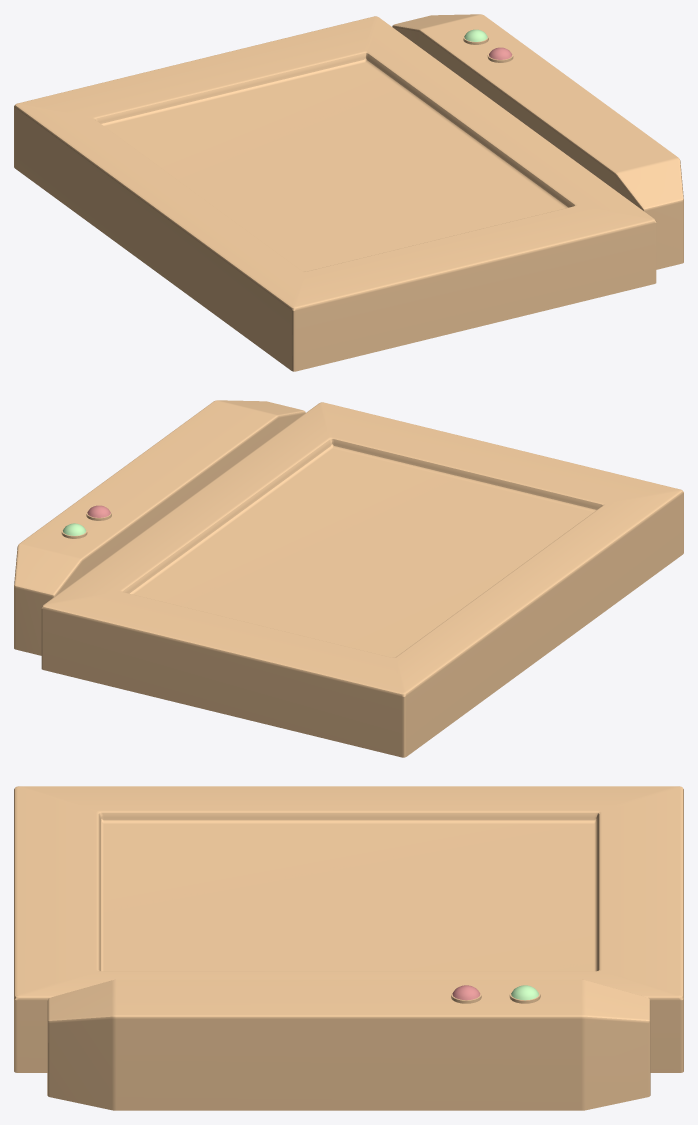
File: Hand_Scanner.fbx
3 renders of one model, top to bottom at view 1: azimuth 30°, elevation 25°; view 2: azimuth 150°, elevation 25°; view 3: azimuth 270°, elevation 25°, orthographic. The views are drawn at different scales.
Visible parts, largest first — view 1: hand_scanner_screen, hand_scanner_attachment; view 2: hand_scanner_screen, hand_scanner_attachment; view 3: hand_scanner_screen, hand_scanner_attachment.
Part boxes in pixels (<box>): hand_scanner_screen: <box>14,16,656,371</box>; hand_scanner_attachment: <box>392,14,683,269</box>; hand_scanner_screen: <box>41,402,683,757</box>; hand_scanner_attachment: <box>14,400,305,655</box>; hand_scanner_screen: <box>14,786,683,1072</box>; hand_scanner_attachment: <box>47,979,650,1110</box>.
Size of the model in its own units: 0.3533 by 0.0692 by 0.4.
